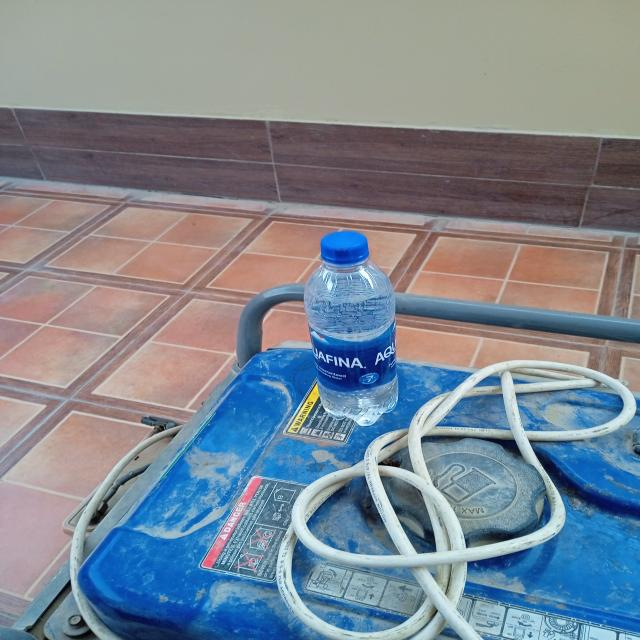Plastic: (304, 229, 411, 426)
